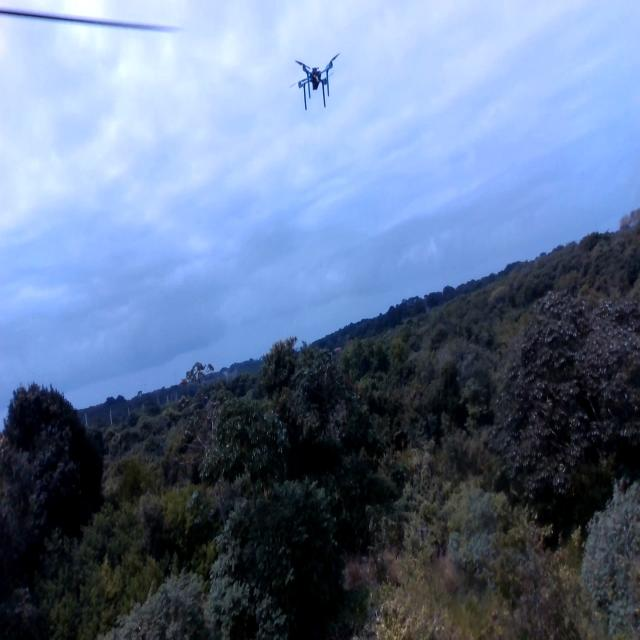-uav-: (282, 46, 346, 117)
